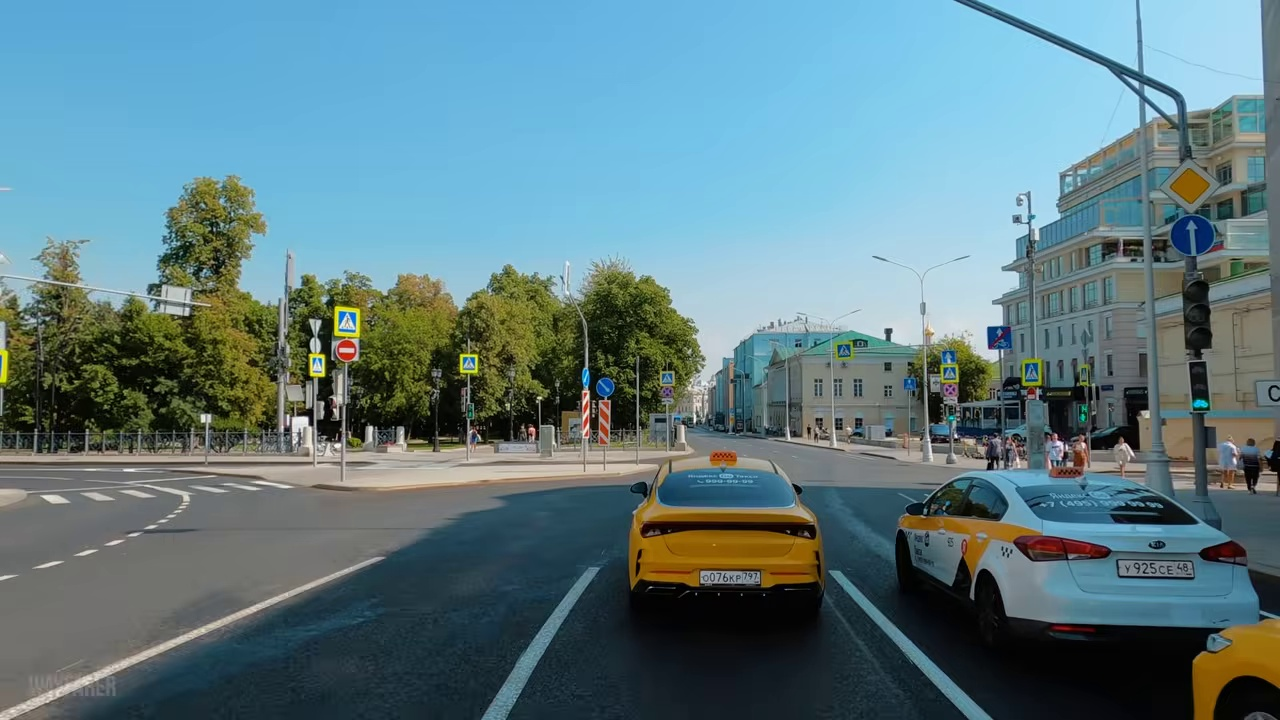apagada: (868, 250, 891, 268)
